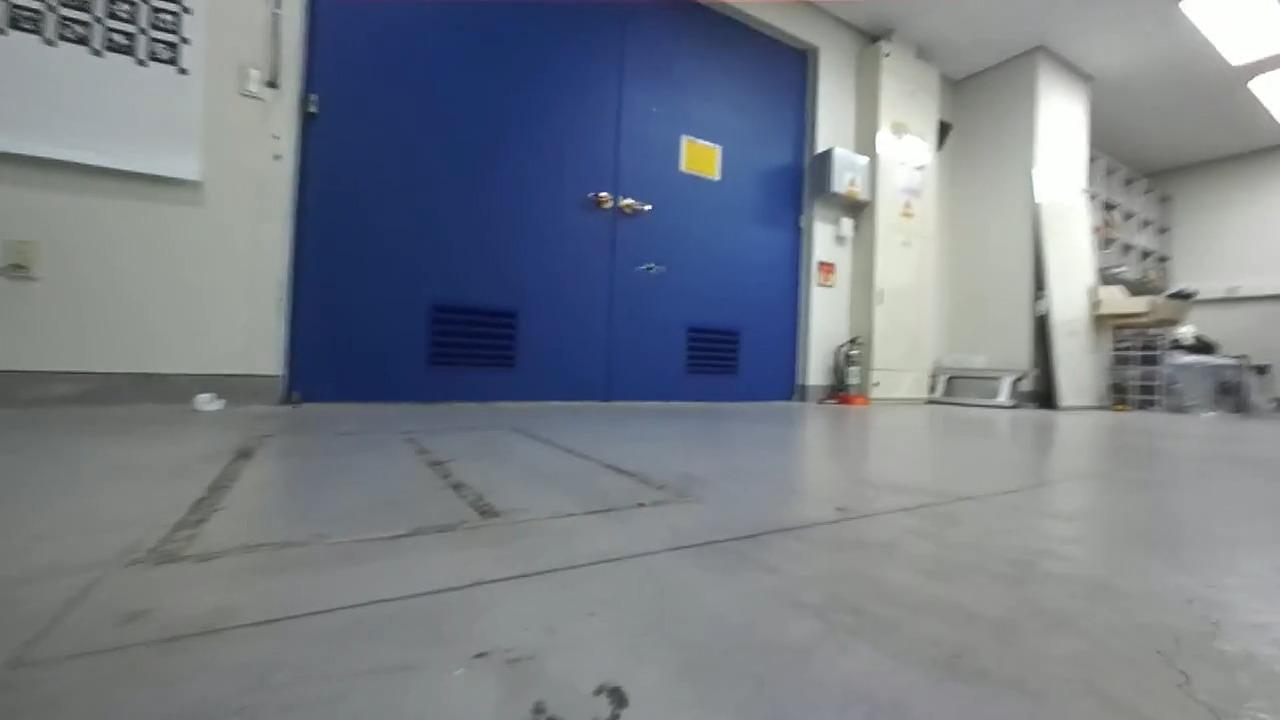crazyflie: (626, 254, 678, 280)
